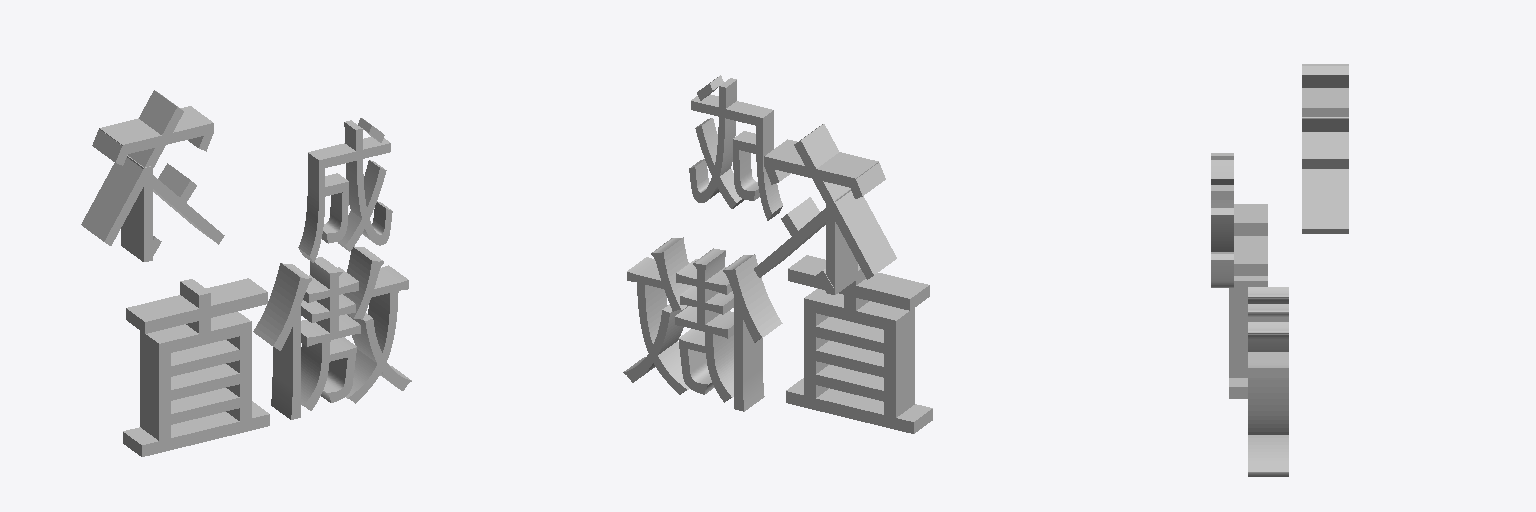
The model's file is summary.obj.
3 renders of one model, left to right at view 1: azimuth 30°, elevation 25°; view 2: azimuth 150°, elevation 25°; view 3: azimuth 270°, elevation 25°, orthographic.
Parts seen in each view (by area): view 1: ImageToStl.com_text, output_(2), nong, meshText; view 2: output_(2), ImageToStl.com_text, nong, meshText; view 3: nong, output_(2), ImageToStl.com_text, meshText.
Boxes of the visible parts, box(x1,y1,x2,y2) form: ImageToStl.com_text: box(123, 278, 269, 456); output_(2): box(253, 246, 411, 419); nong: box(81, 90, 224, 261); meshText: box(298, 118, 392, 262); output_(2): box(623, 237, 782, 411); ImageToStl.com_text: box(786, 255, 932, 433); nong: box(754, 124, 896, 294); meshText: box(689, 75, 782, 220); nong: box(1302, 64, 1348, 233); output_(2): box(1248, 287, 1288, 476); ImageToStl.com_text: box(1229, 204, 1267, 398); meshText: box(1211, 153, 1233, 287).
Bounding box in the file's own units: 6.86 × 7.34 × 2.92.